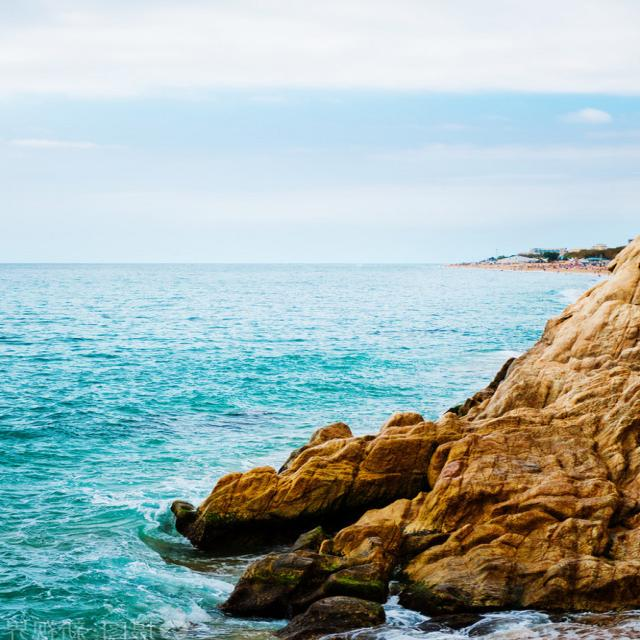reef: (128, 425, 500, 611)
